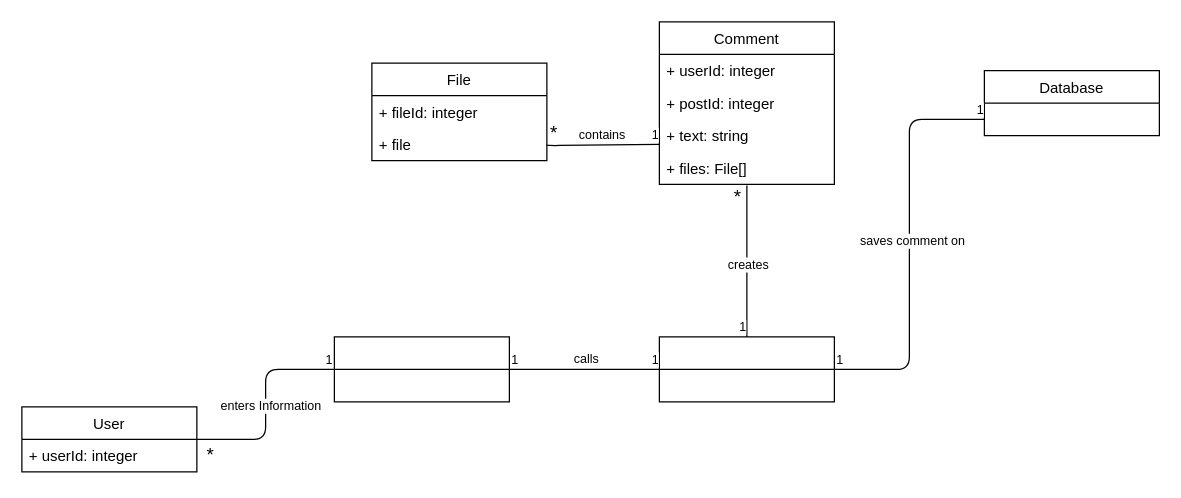
This 1181x498 diagram has some shape labels left out. Each missing label, with the centre of its shape:
API: point 746,369
UI: point 421,369
